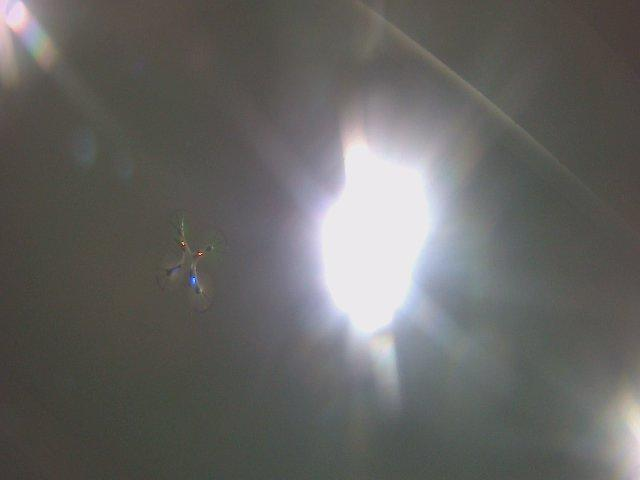drone: (154, 207, 231, 315)
